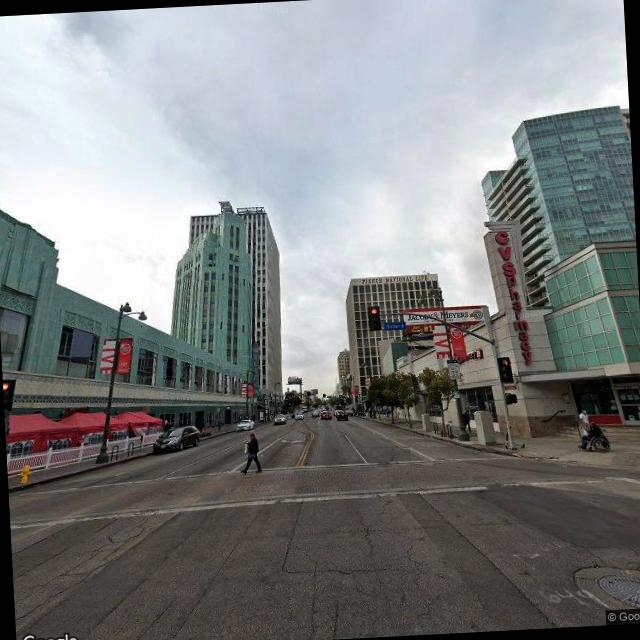crack: (10, 511, 156, 616)
pothole: (402, 538, 424, 591), (355, 508, 376, 554)
